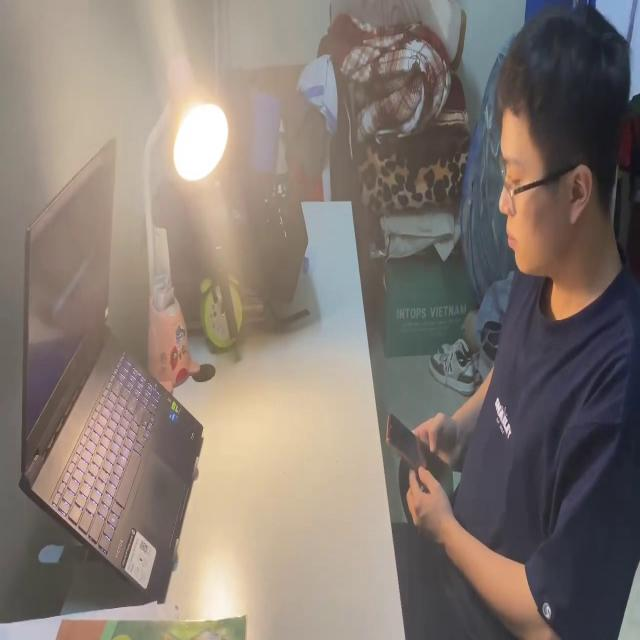book: (5, 610, 248, 640)
laptop: (18, 135, 207, 596)
phone: (386, 410, 460, 502)
student: (388, 0, 639, 640)
